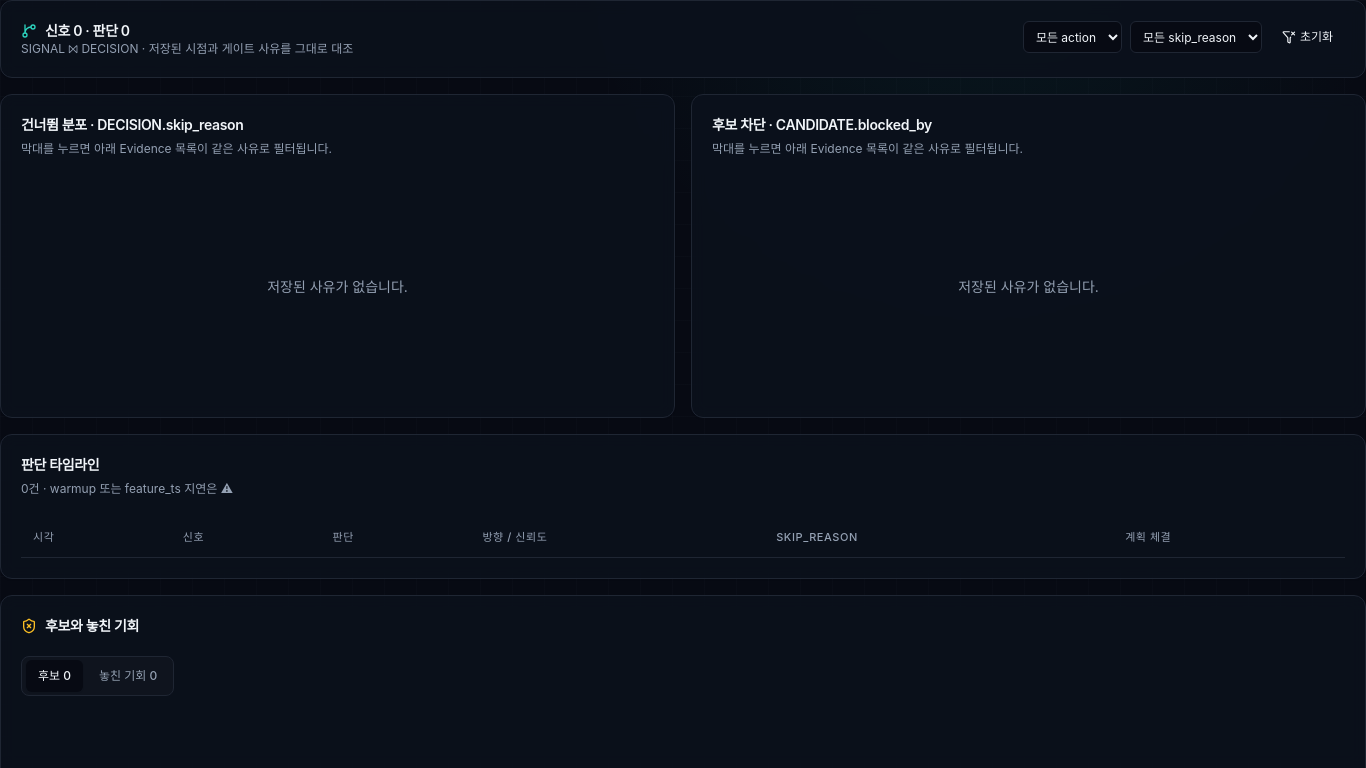
Test: 기록 경로 미구현 상태의 정직 표기 › 놓친 기회 섹션을 MISSED_OPPORTUNITY 기록 경로의 3차 유보로 표시한다
Click the tab "놓친 기회 0". click: (128, 676)
box: [87,660,169,692]
(page scrolled)
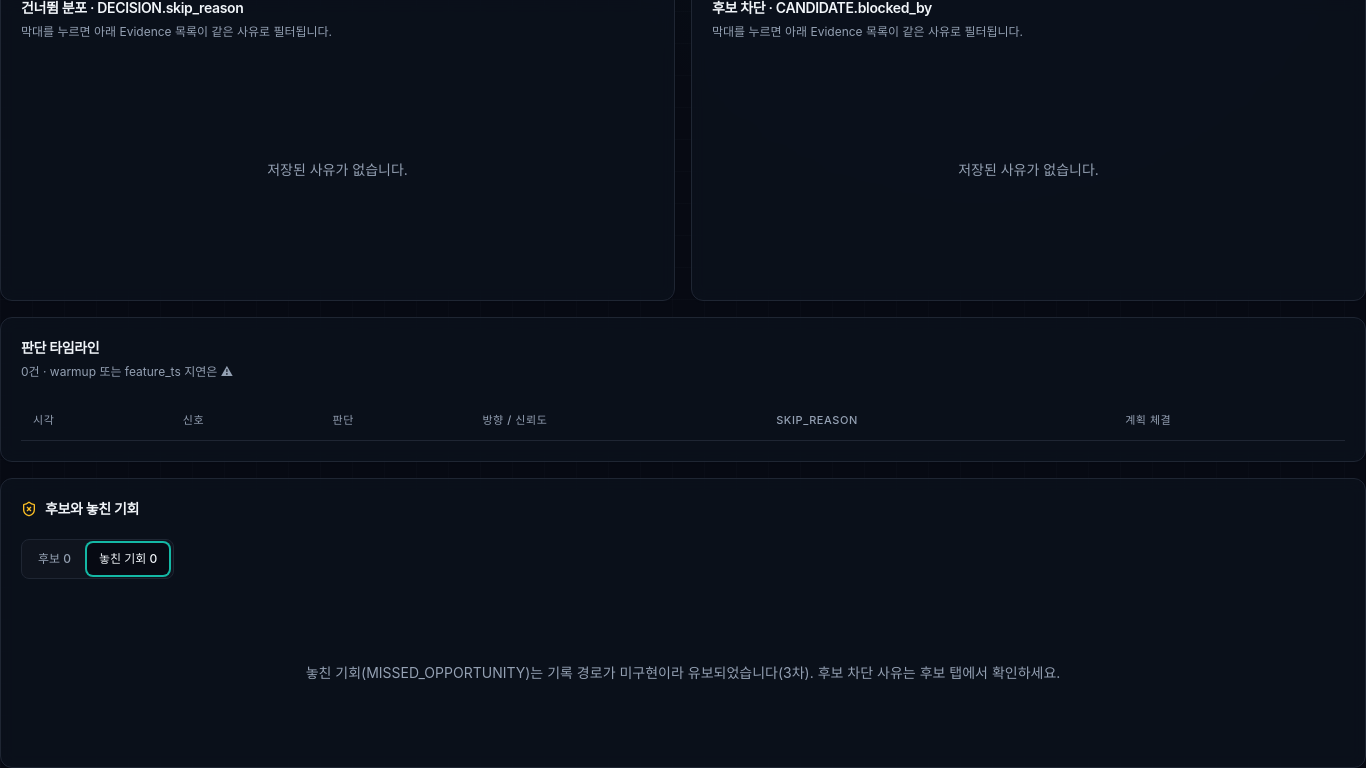
Check: the text "놓친 기회(MISSED_OPPORTUNITY)는 기록 경로가 미구현이라" is shown, box [306,664,1060,680]
